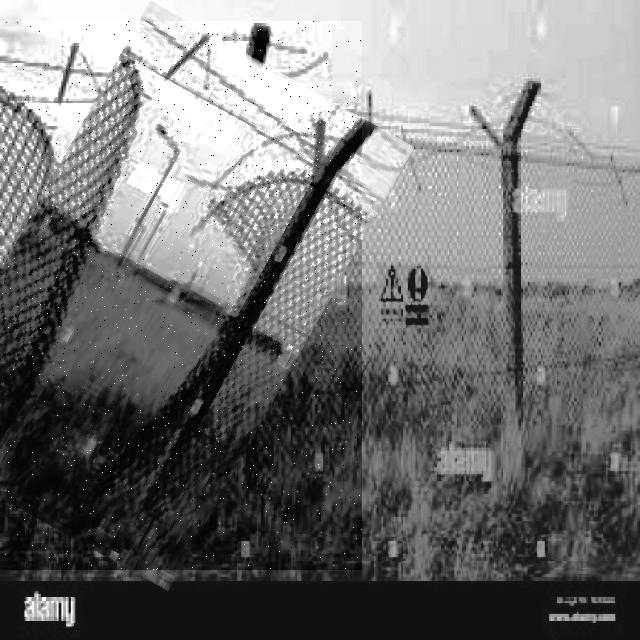anomaly-fence: (0, 21, 362, 570)
